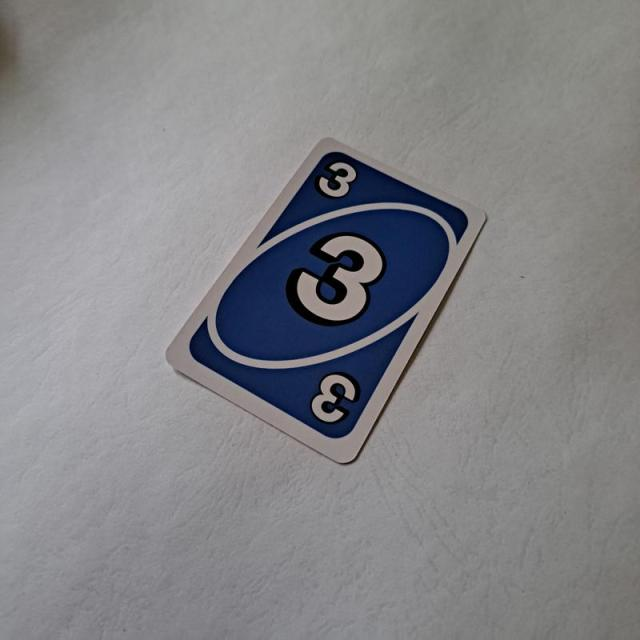Blue_Card: (185, 147, 474, 443)
Number_3: (314, 159, 358, 199)
